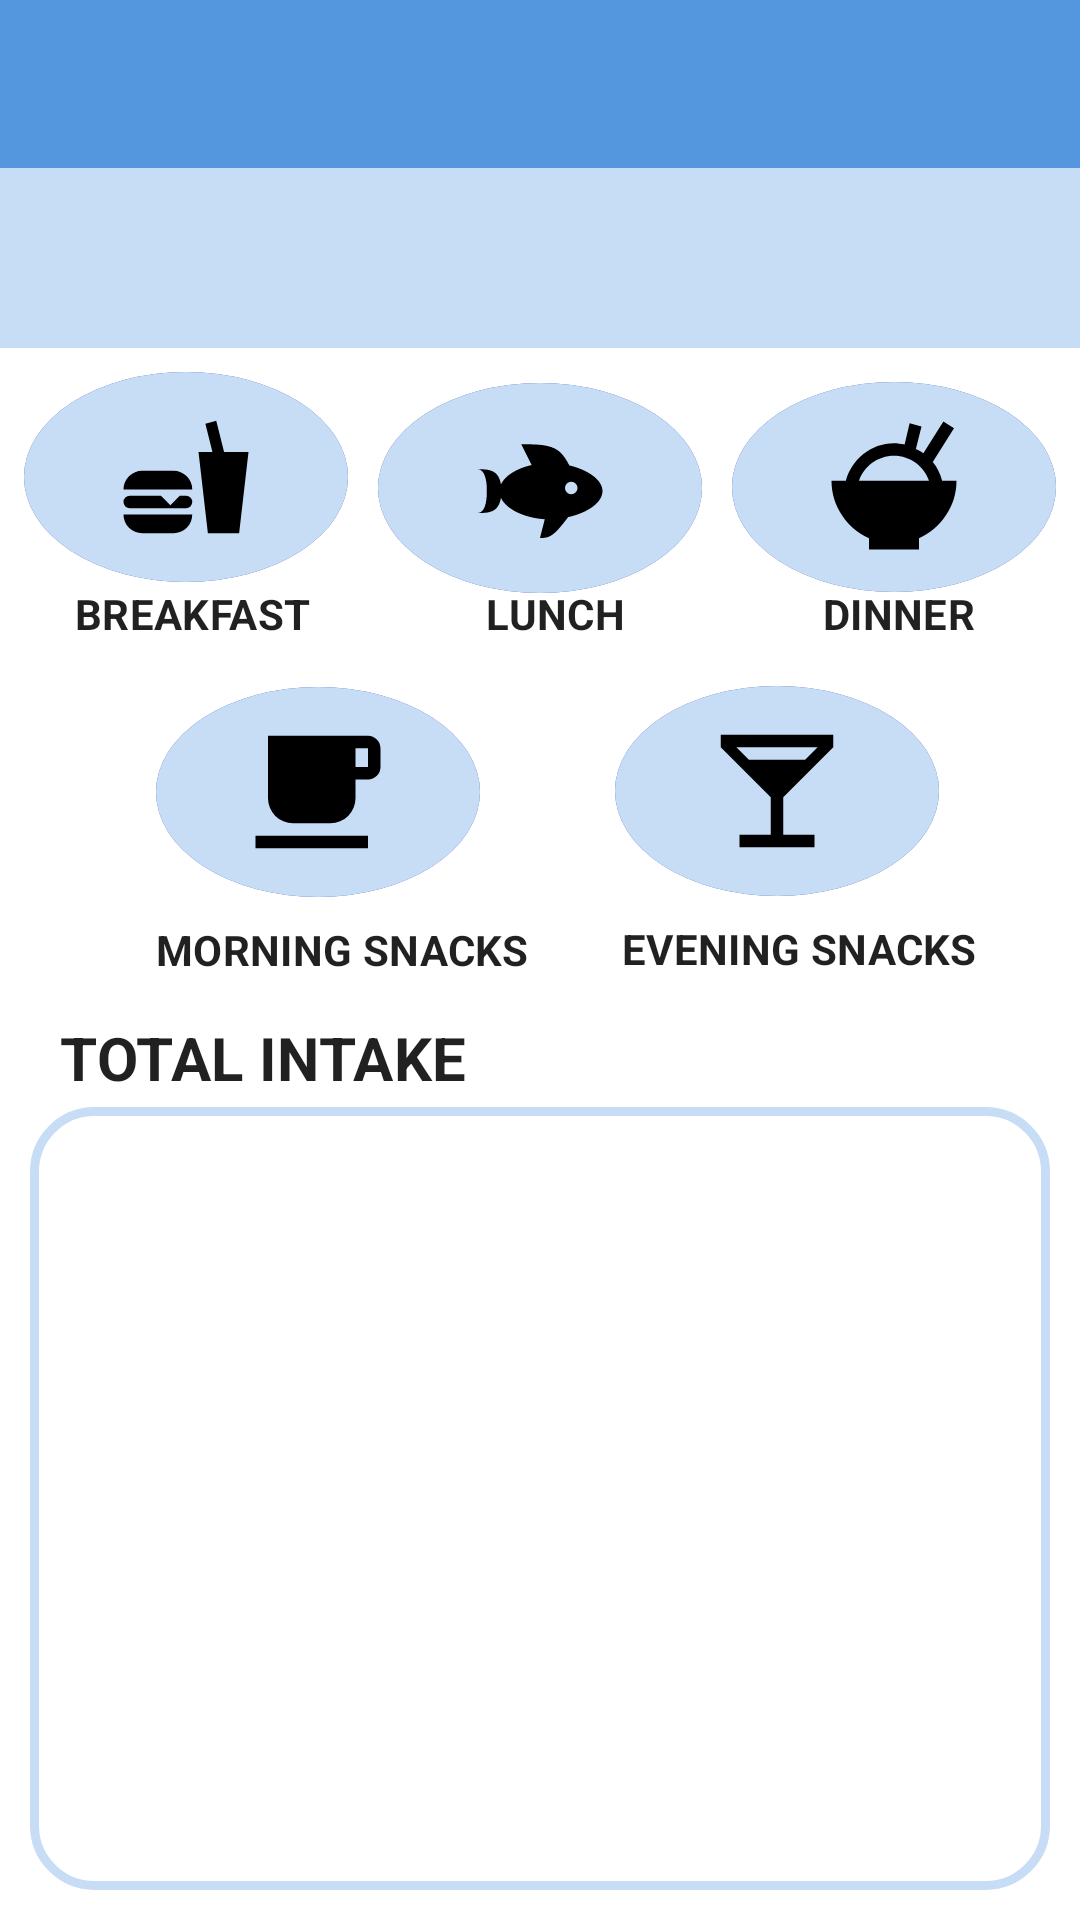

Icon click points for this 1080px x 1920px phone screenshot, format (x,y):
coffee: (318,792)
fish: (540,488)
food: (186,477)
glass cocktail: (777,791)
rice: (894,487)
